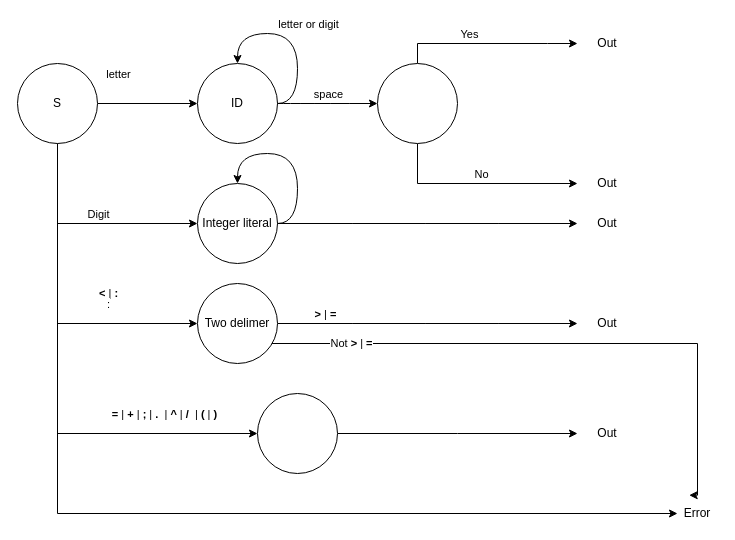
Image size: 735x540. Some labels were removed from this diagram. The shapes that lost their labels are listed below. From the top down, each one's centre as x and y in pixels, then its label:
pixel 417 103: is keyword
pixel 297 433: One delimer
